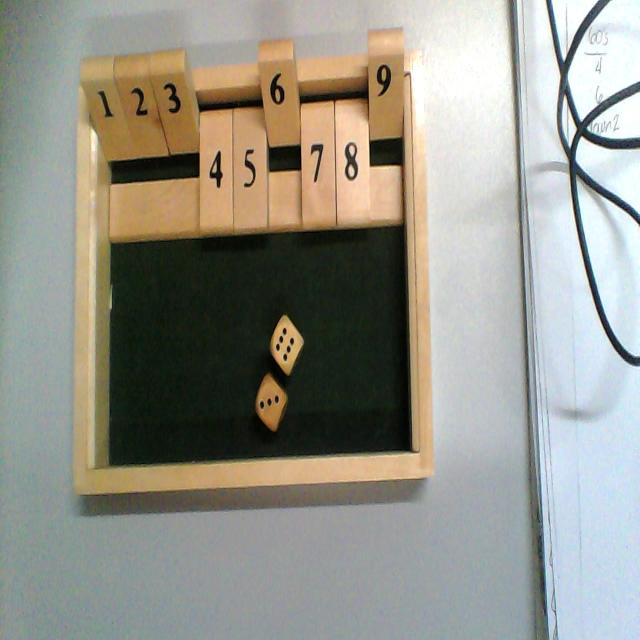3: (248, 371, 290, 435)
6: (266, 302, 314, 378)
O1: (80, 60, 112, 235)
O2: (114, 56, 149, 237)
O3: (150, 51, 185, 235)
O6: (259, 41, 302, 228)
O9: (367, 29, 406, 223)
